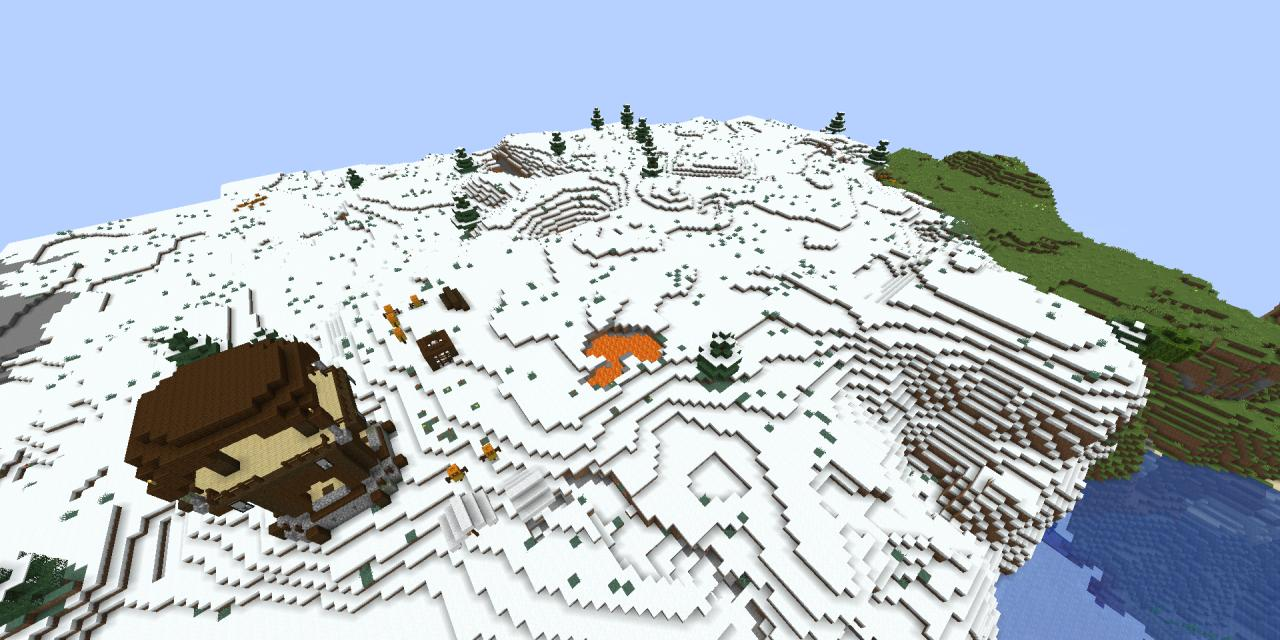pillager outpost: (124, 325, 417, 554)
